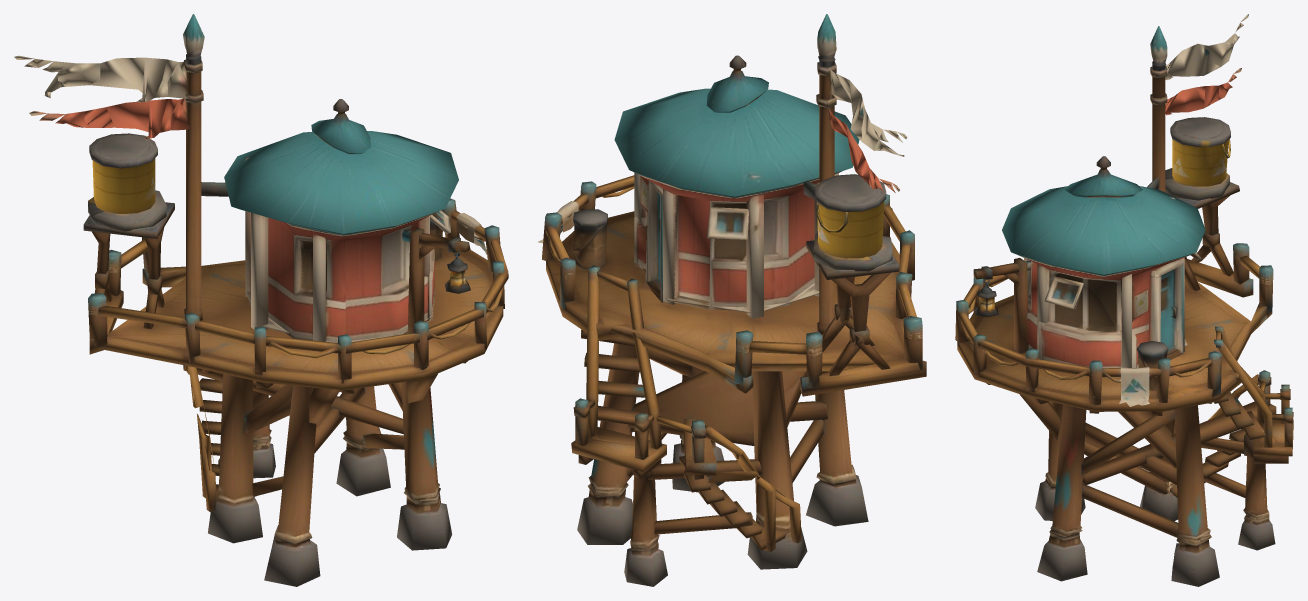
Rendered from lookout-web.glb.
The picture shows the model from 3 angles, left to right: view 1: azimuth 30°, elevation 25°; view 2: azimuth 150°, elevation 25°; view 3: azimuth 270°, elevation 25°; orthographic projection. The views are drawn at different scales.
Parts seen in each view (by area): view 1: tripo_node_38f149d9-3766-486f-bfe1-6fec9f84f5da; view 2: tripo_node_38f149d9-3766-486f-bfe1-6fec9f84f5da; view 3: tripo_node_38f149d9-3766-486f-bfe1-6fec9f84f5da.
Part boxes in pixels (left/top/right/bottom): tripo_node_38f149d9-3766-486f-bfe1-6fec9f84f5da: left=14, top=14, right=508, bottom=586; tripo_node_38f149d9-3766-486f-bfe1-6fec9f84f5da: left=538, top=14, right=926, bottom=586; tripo_node_38f149d9-3766-486f-bfe1-6fec9f84f5da: left=955, top=14, right=1293, bottom=586.
Bounding box in the file's own units: 0.8105 × 0.998 × 0.6543.
Materials: 1 (1 with a texture image).
